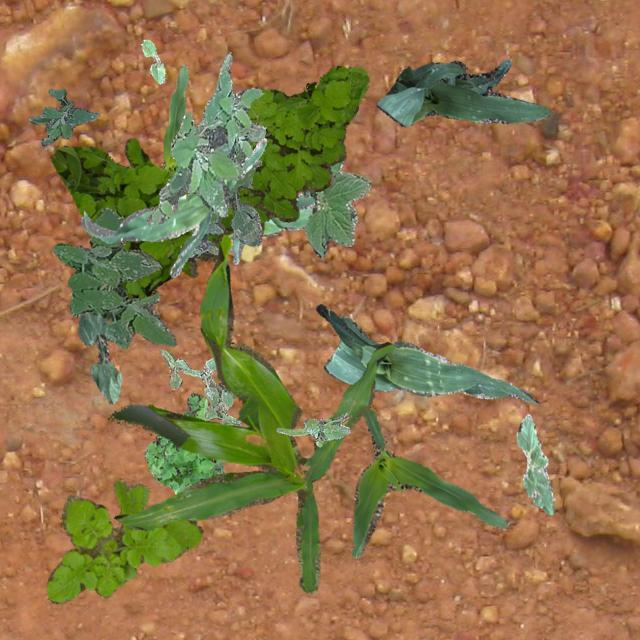crop: (110, 233, 392, 592), (80, 54, 266, 276), (351, 406, 508, 556), (316, 304, 538, 402), (376, 58, 548, 125), (302, 160, 369, 256), (226, 192, 314, 264), (76, 312, 120, 402), (516, 414, 554, 514), (162, 62, 186, 172), (140, 38, 164, 82)
weed: (49, 64, 368, 298), (46, 478, 200, 602), (145, 68, 265, 224), (51, 206, 176, 348), (188, 140, 260, 256), (143, 392, 224, 493), (160, 350, 240, 426), (28, 88, 98, 144), (276, 412, 348, 446)
